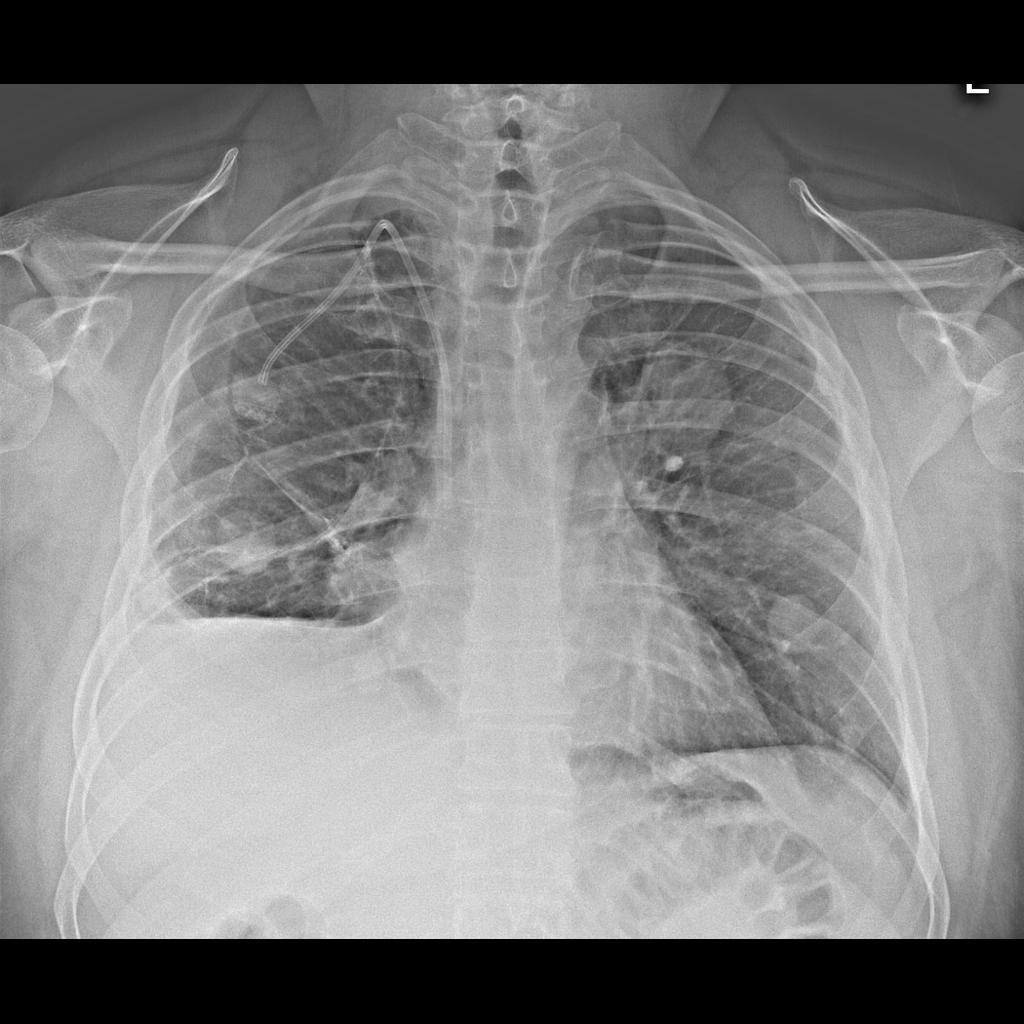Nodule: (635, 335, 737, 462), (757, 582, 833, 671), (210, 504, 276, 579)
